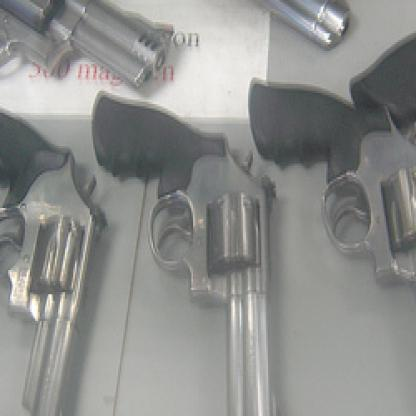gun: (85, 79, 294, 414), (243, 73, 414, 414), (0, 93, 113, 414), (0, 0, 380, 63), (0, 0, 183, 122), (346, 0, 415, 213)
